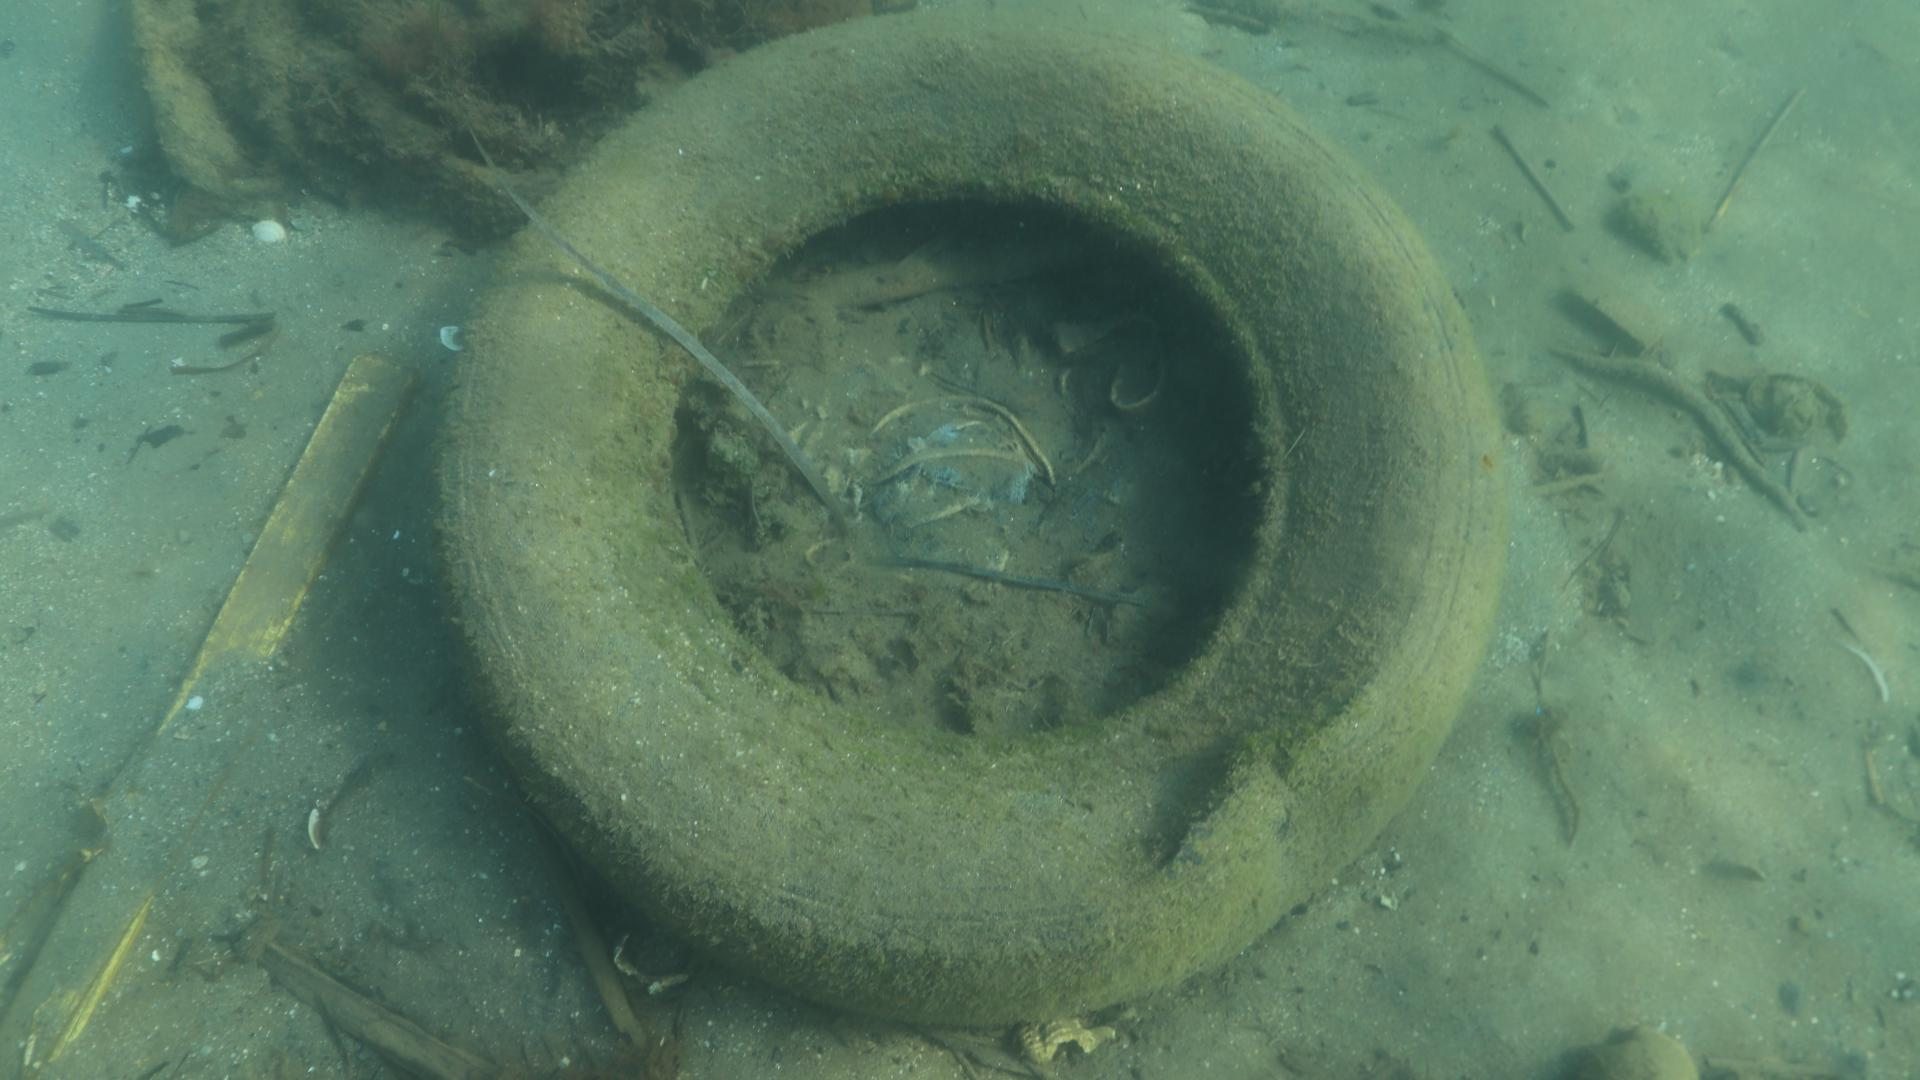tire: (430, 5, 1513, 1030)
